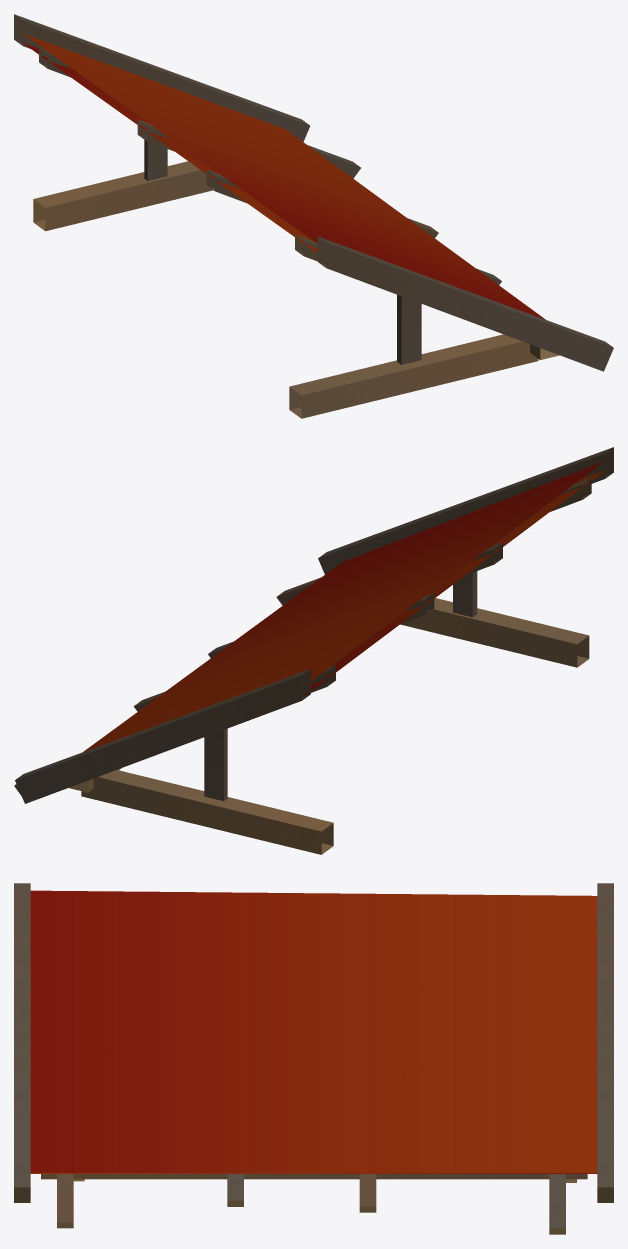
File: Shed_4_LOD1.fbx
The picture shows the model from 3 angles, top to bottom: view 1: azimuth 30°, elevation 25°; view 2: azimuth 150°, elevation 25°; view 3: azimuth 270°, elevation 25°; orthographic projection. The views are drawn at different scales.
Visible parts, largest first — view 1: polySurface9201; view 2: polySurface9201; view 3: polySurface9201.
Boxes of the visible parts, x1,y1,x2,y2 form: polySurface9201: [14, 14, 613, 418]; polySurface9201: [14, 447, 613, 854]; polySurface9201: [14, 883, 613, 1234].
Size of the model in its own units: 239 by 158 by 411.
